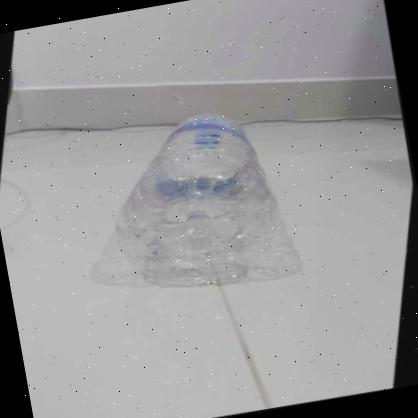bottle: (98, 106, 277, 293)
